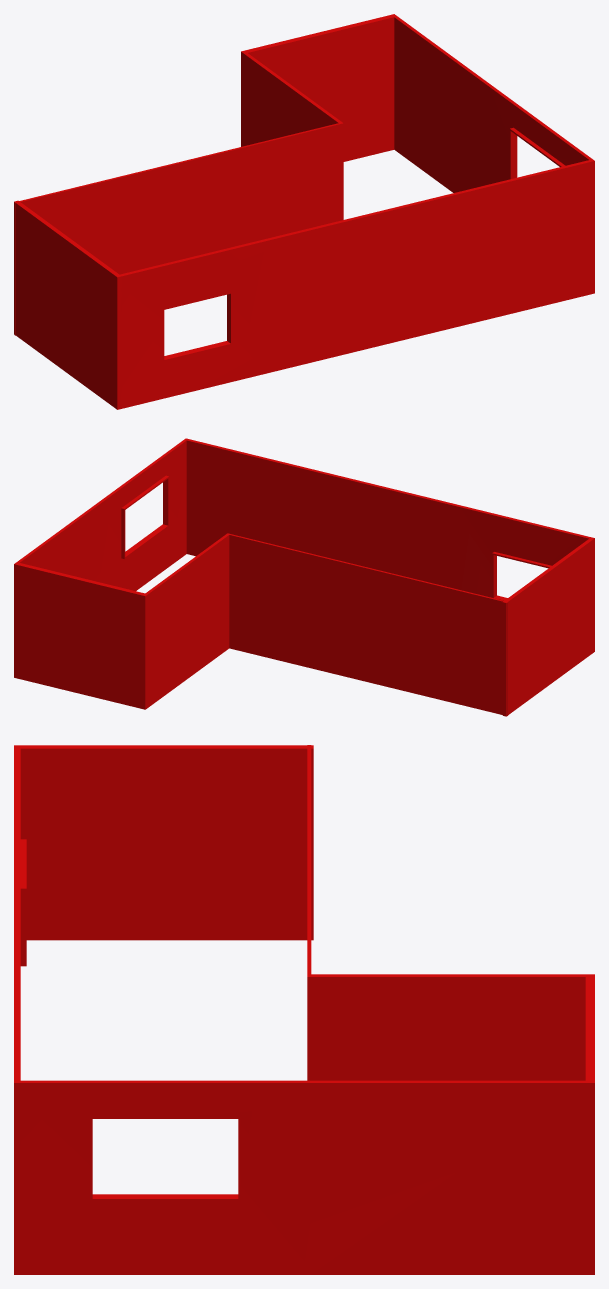
File: room_2.fbx
3 views of the same model, one above another, from view 1: azimuth 30°, elevation 25°; view 2: azimuth 150°, elevation 25°; view 3: azimuth 270°, elevation 25° (orthographic). The views are drawn at different scales.
Parts seen in each view (by area): view 1: wall; view 2: wall; view 3: wall.
Part boxes in pixels (<box>): wall: <box>14,14,594,409</box>; wall: <box>14,438,594,716</box>; wall: <box>14,745,594,1274</box>.
Bounding box in the file's own units: 2983 × 791 × 2169.
